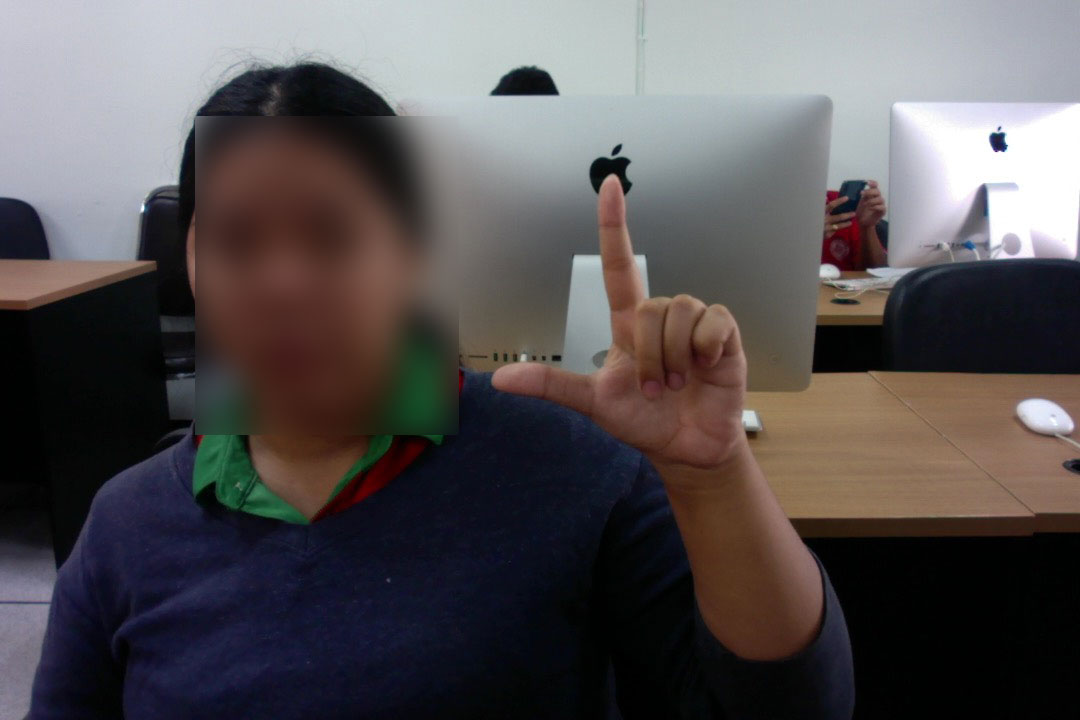lor: (485, 166, 773, 466)
